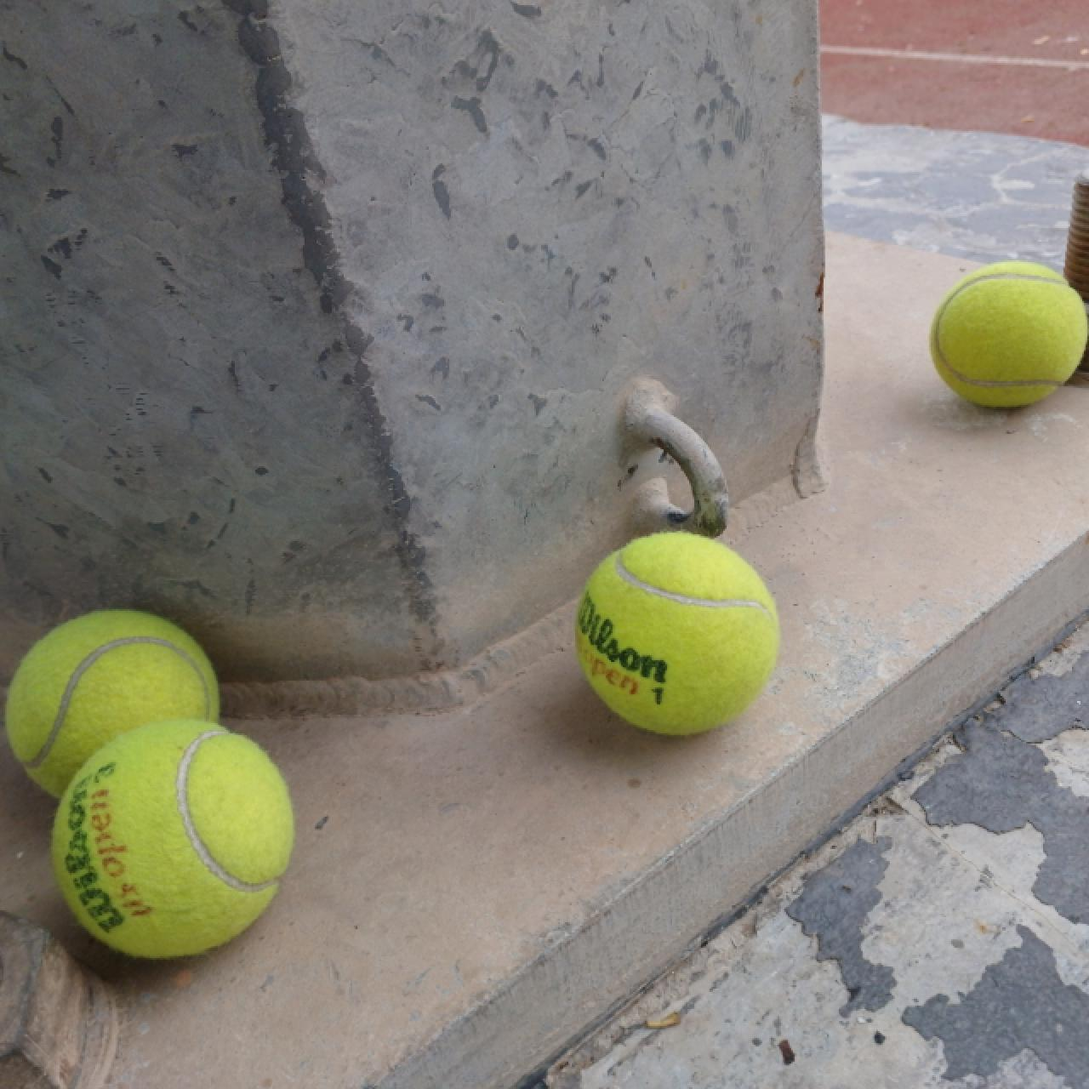tennis-ball: (48, 718, 302, 964), (0, 604, 227, 806), (572, 527, 778, 736), (927, 257, 1087, 413)
